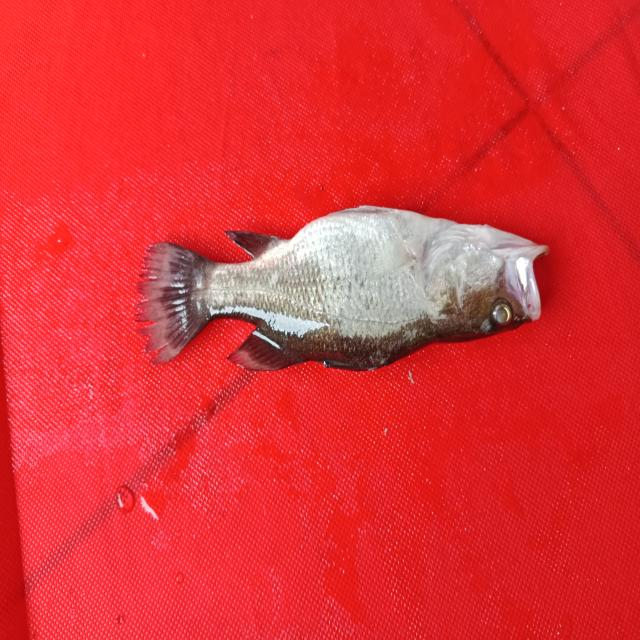ikan: (125, 182, 563, 386)
